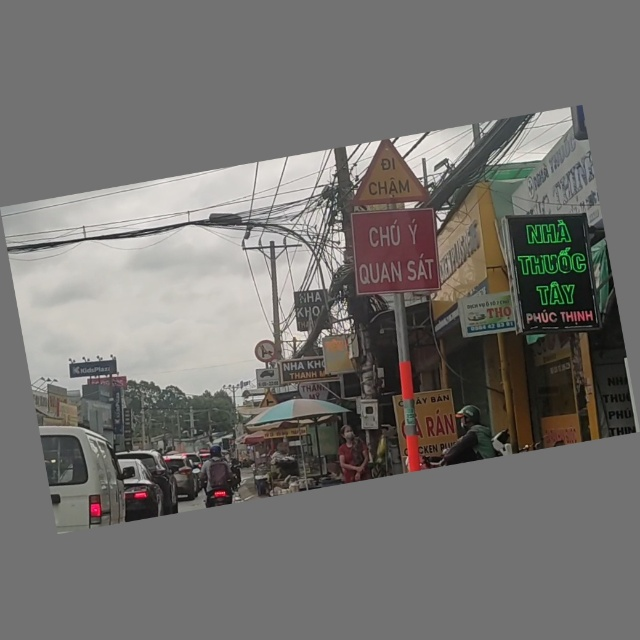P.139: (253, 340, 280, 365)
S.505a*Xe tai: (253, 367, 280, 390)
W.205b: (256, 389, 282, 412)
W.245a: (341, 135, 430, 215)
